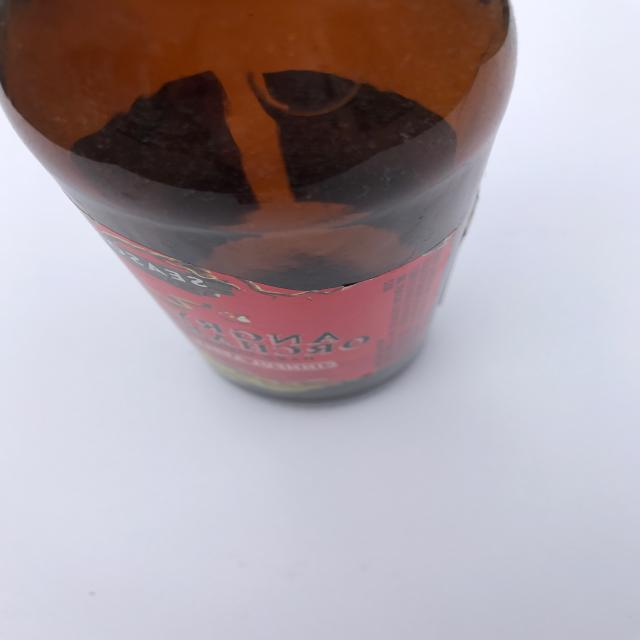glass: (0, 0, 519, 405)
